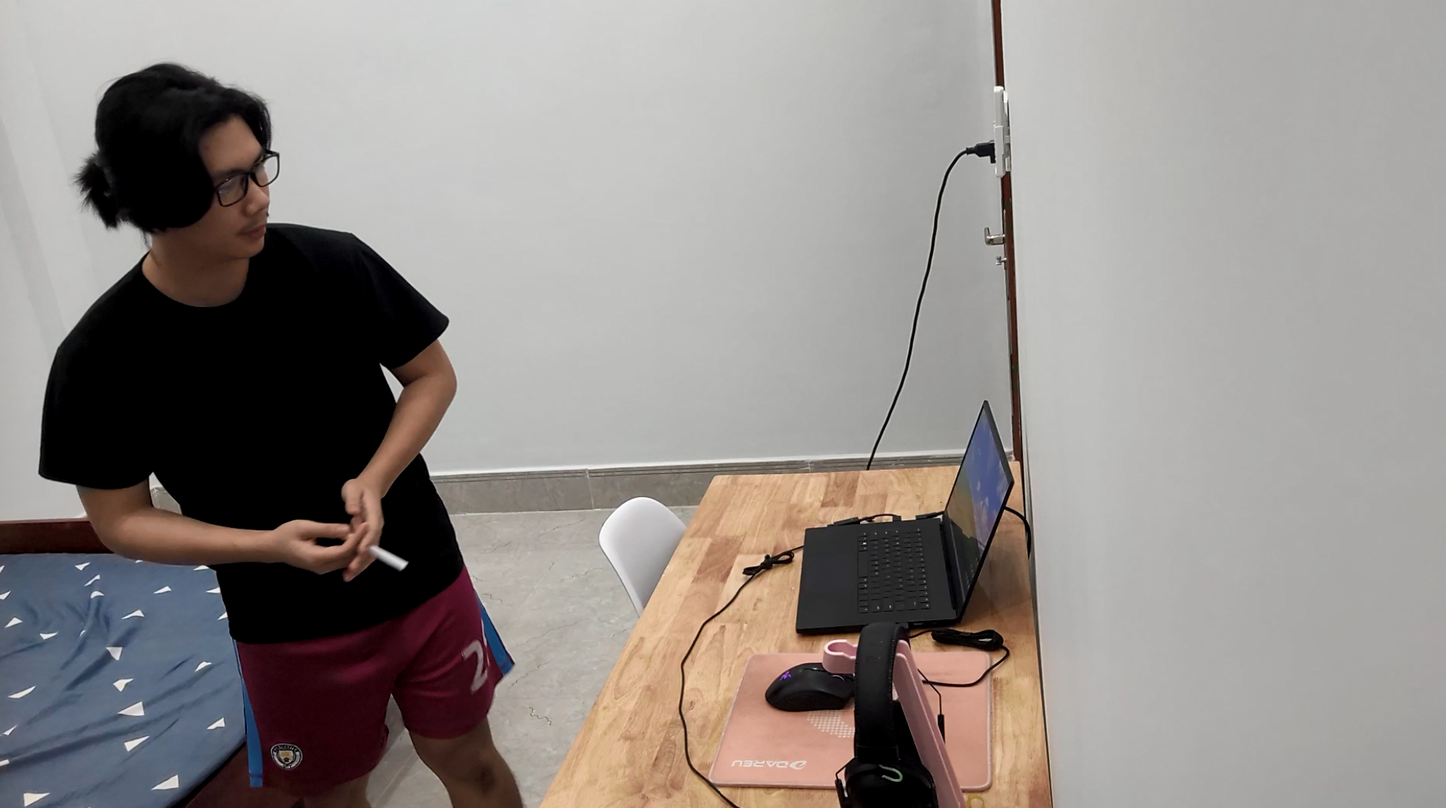cigarette: (358, 531, 415, 575)
person: (36, 39, 541, 808)
